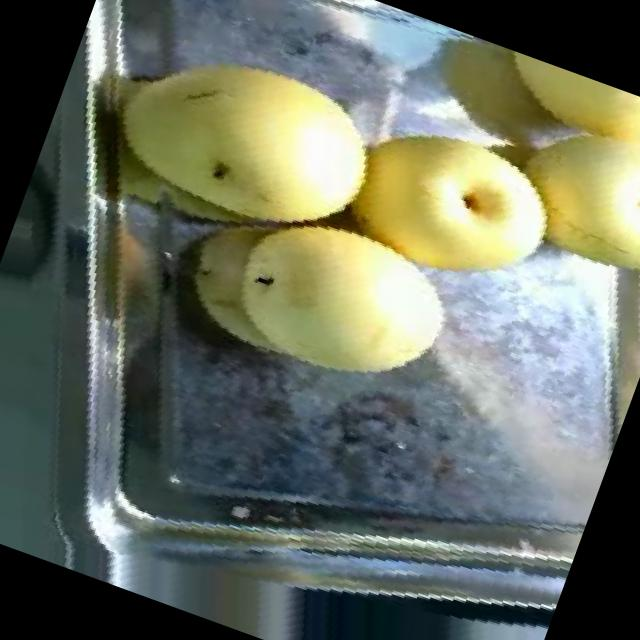Fruit: (56, 0, 423, 315), (146, 146, 494, 448), (298, 65, 601, 342), (404, 37, 640, 334)
